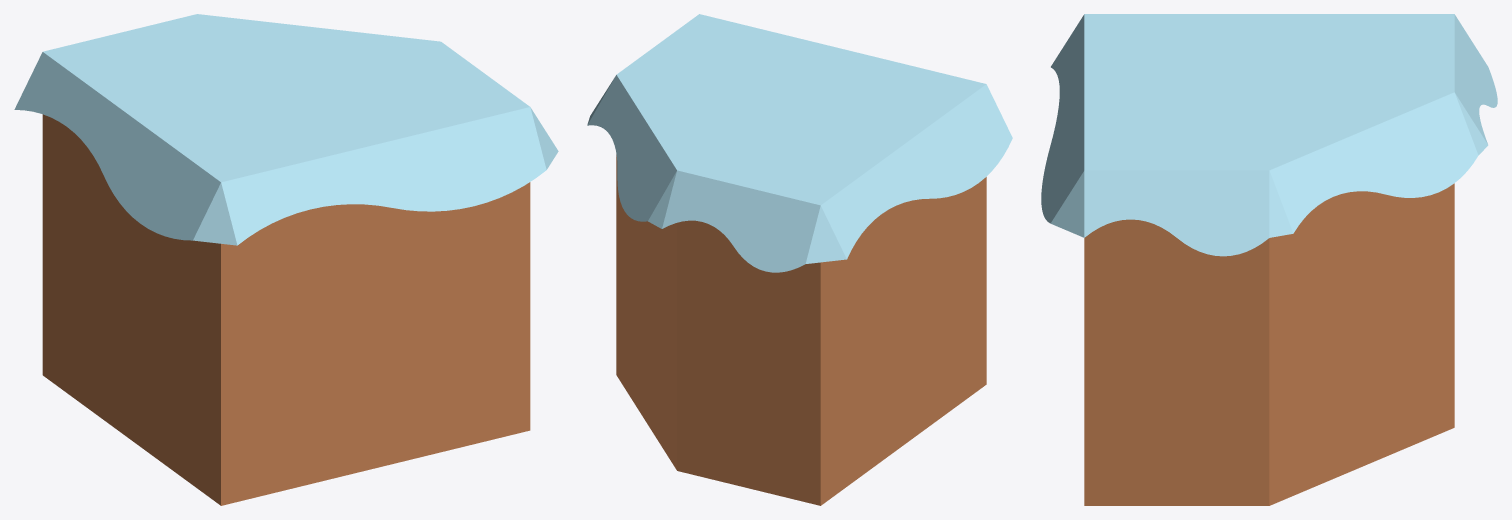
File: blockSnowCornerSmall.glb
3 renders of one model, left to right at view 1: azimuth 30°, elevation 25°; view 2: azimuth 150°, elevation 25°; view 3: azimuth 270°, elevation 25°, orthographic. The views are drawn at different scales.
Parts seen in each view (by area): view 1: blockSnowCornerSmall; view 2: blockSnowCornerSmall; view 3: blockSnowCornerSmall.
Boxes of the visible parts, left/top/right/bottom form: blockSnowCornerSmall: left=14, top=14, right=558, bottom=505; blockSnowCornerSmall: left=587, top=14, right=1012, bottom=505; blockSnowCornerSmall: left=1041, top=14, right=1497, bottom=505.
Bounding box in the file's own units: 1.23 × 1 × 1.23.
